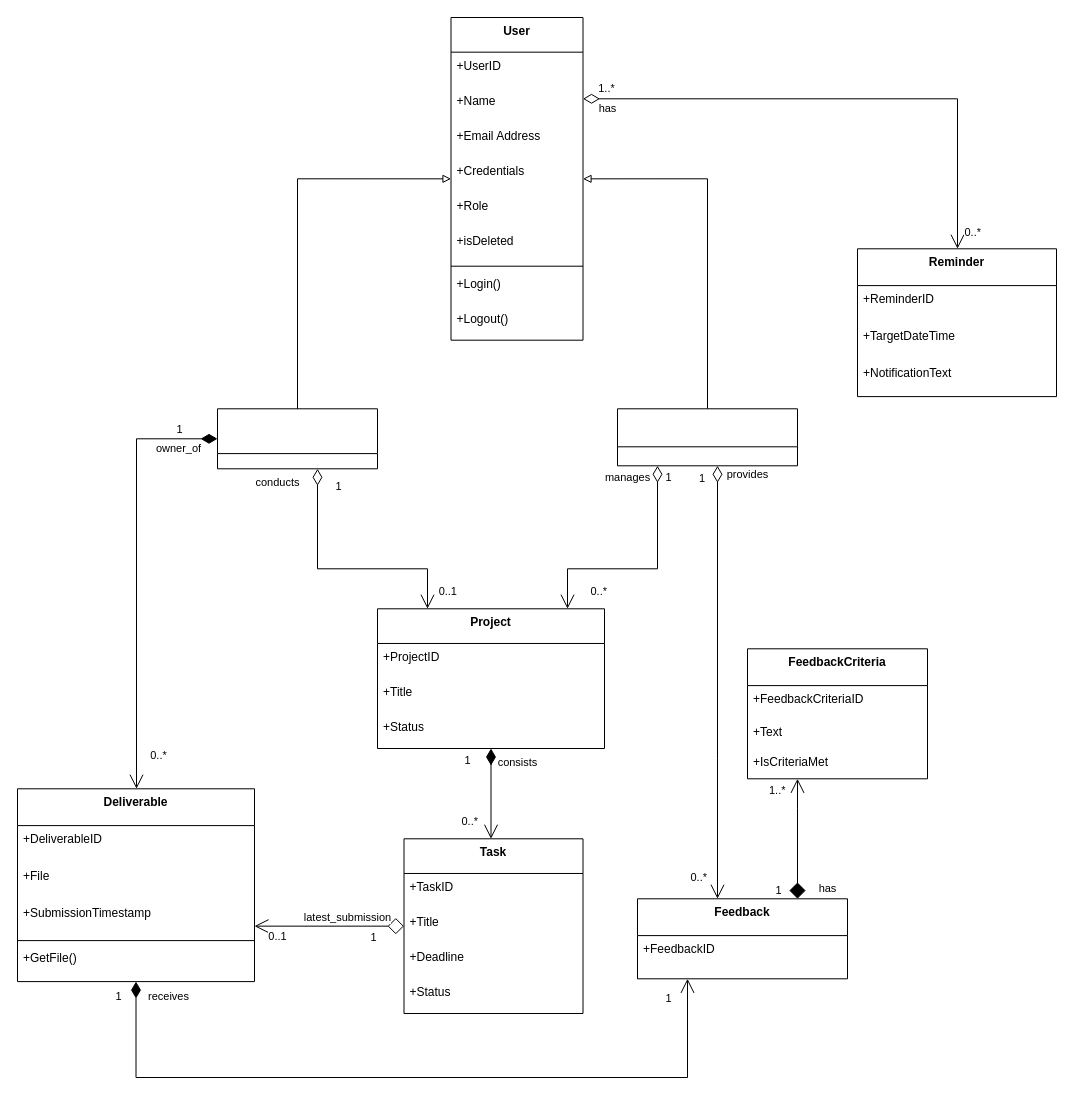
Image size: 1074x1112. Some labels were removed from this diagram. Here are the shapes that lost their labels. From the top down, the centre of each, then its label:
At (297,438): "Student".
At (707,437): "Supervisor".
